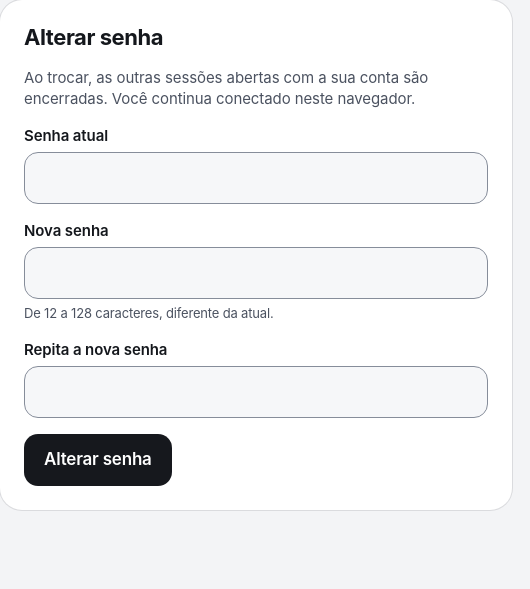
Test: PasswordForm › troca a senha pela API, limpa os campos e avisa que as outras sessoes foram encerradas
The width and height of the screenshot is (530, 589).
Type "senha-atual-qualquer" into the password field labelled "Senha atual" at (256, 178), box [24, 152, 488, 204]
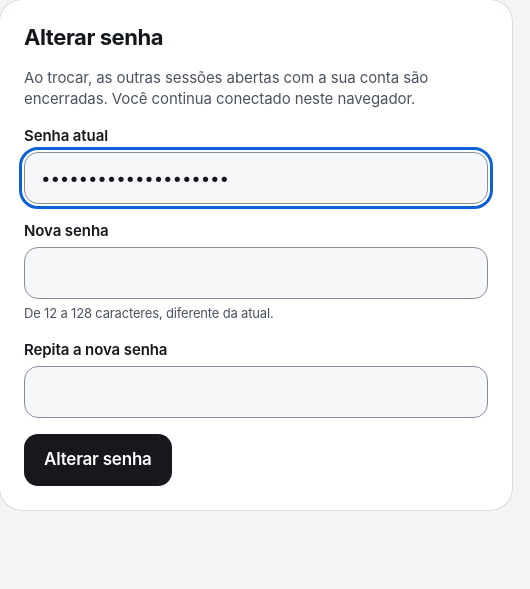
Type "uma-senha-nova-bem-longa" into the password field labelled "Nova senha" at (256, 273), box [24, 247, 488, 299]
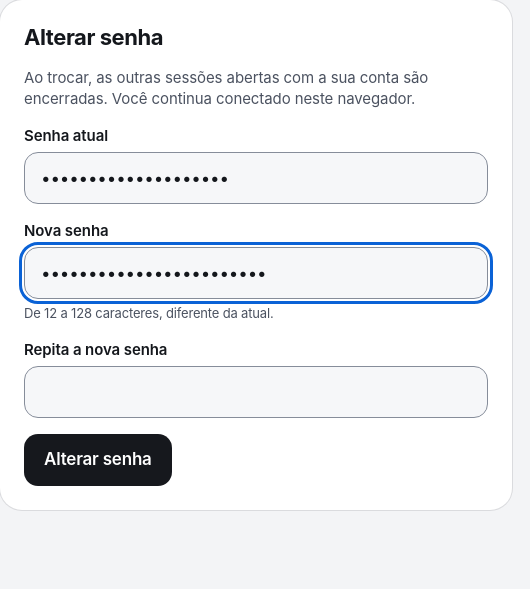
Type "uma-senha-nova-bem-longa" into the password field labelled "Repita a nova senha" at (256, 392), box [24, 366, 488, 418]
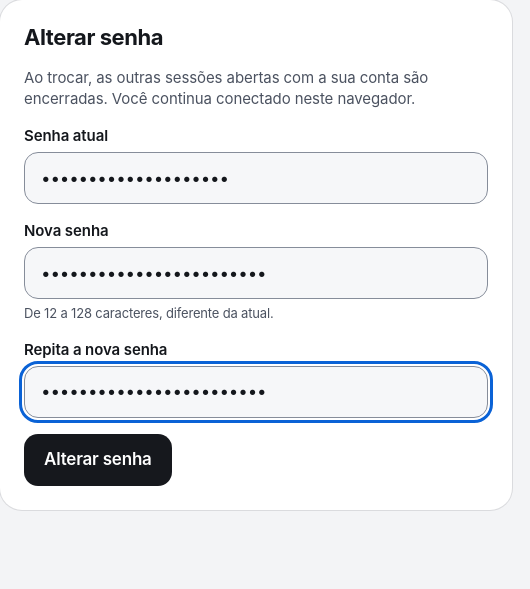
Click the button "Alterar senha" at (98, 460), box [24, 434, 172, 486]
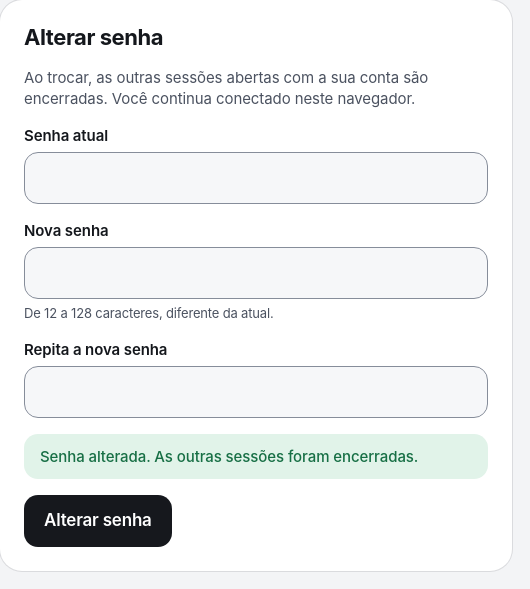
Check: the message reads "Senha alterada. As outras sessões foram encerradas.", box [40, 447, 418, 466]
Check: the password field labelled "Senha atual" is empty, box [24, 152, 488, 204]
Check: the password field labelled "Nova senha" is empty, box [24, 247, 488, 299]
